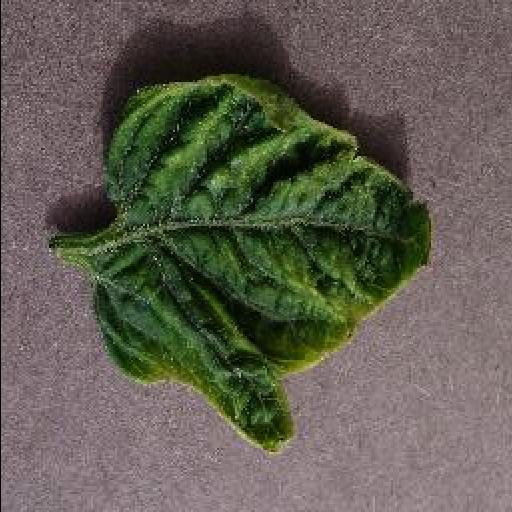disease_tomato: (86, 72, 436, 454)
